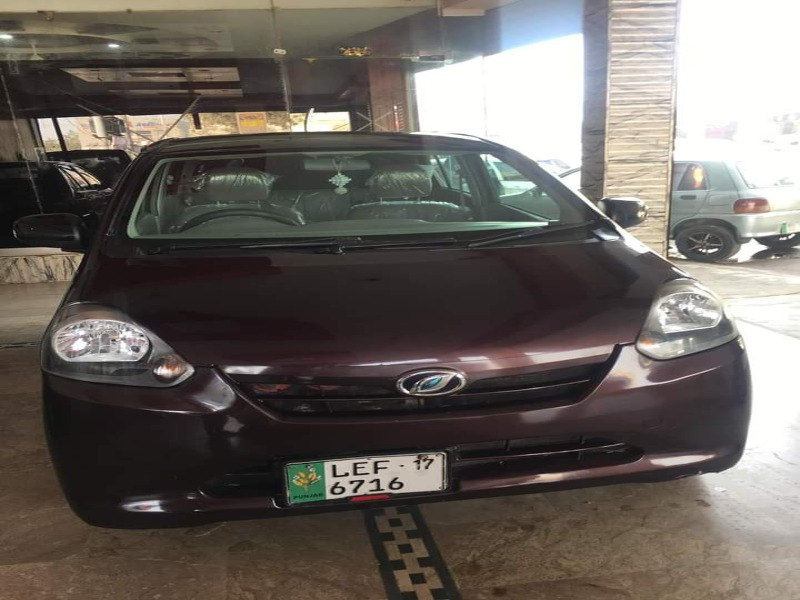License Plate: (276, 447, 453, 507)
